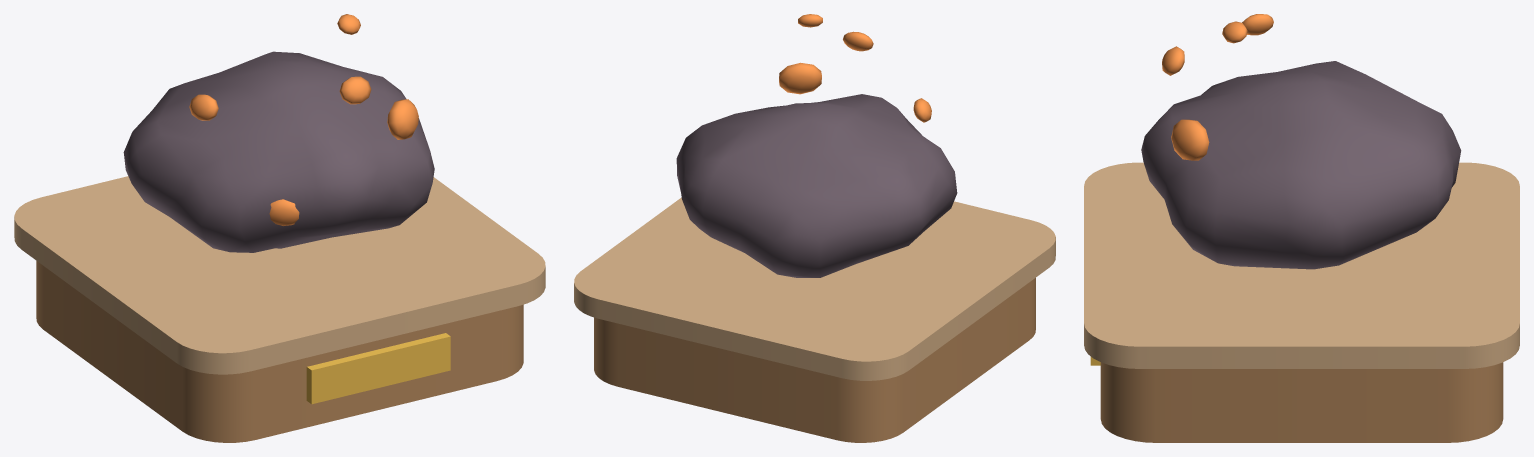
Rendered from gfree_meteorit.glb.
3 views of the same model, side by side, from view 1: azimuth 30°, elevation 25°; view 2: azimuth 150°, elevation 25°; view 3: azimuth 270°, elevation 25° (orthographic). The views are drawn at different scales.
Parts seen in each view (by area): view 1: gfree_meteorit; view 2: gfree_meteorit; view 3: gfree_meteorit.
Part boxes in pixels (left/top/right/bottom): gfree_meteorit: left=14, top=14, right=545, bottom=442; gfree_meteorit: left=574, top=14, right=1055, bottom=442; gfree_meteorit: left=1084, top=14, right=1519, bottom=442.
Bounding box in the file's own units: 0.78 × 0.6964 × 0.78.
